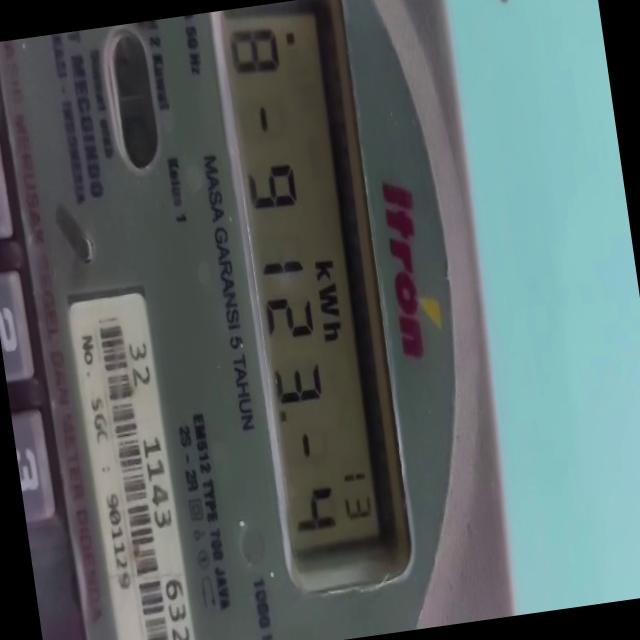LCD: (209, 0, 414, 585)
